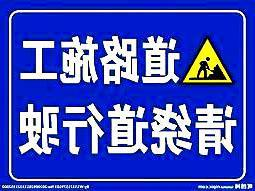sign: (7, 7, 247, 184)
